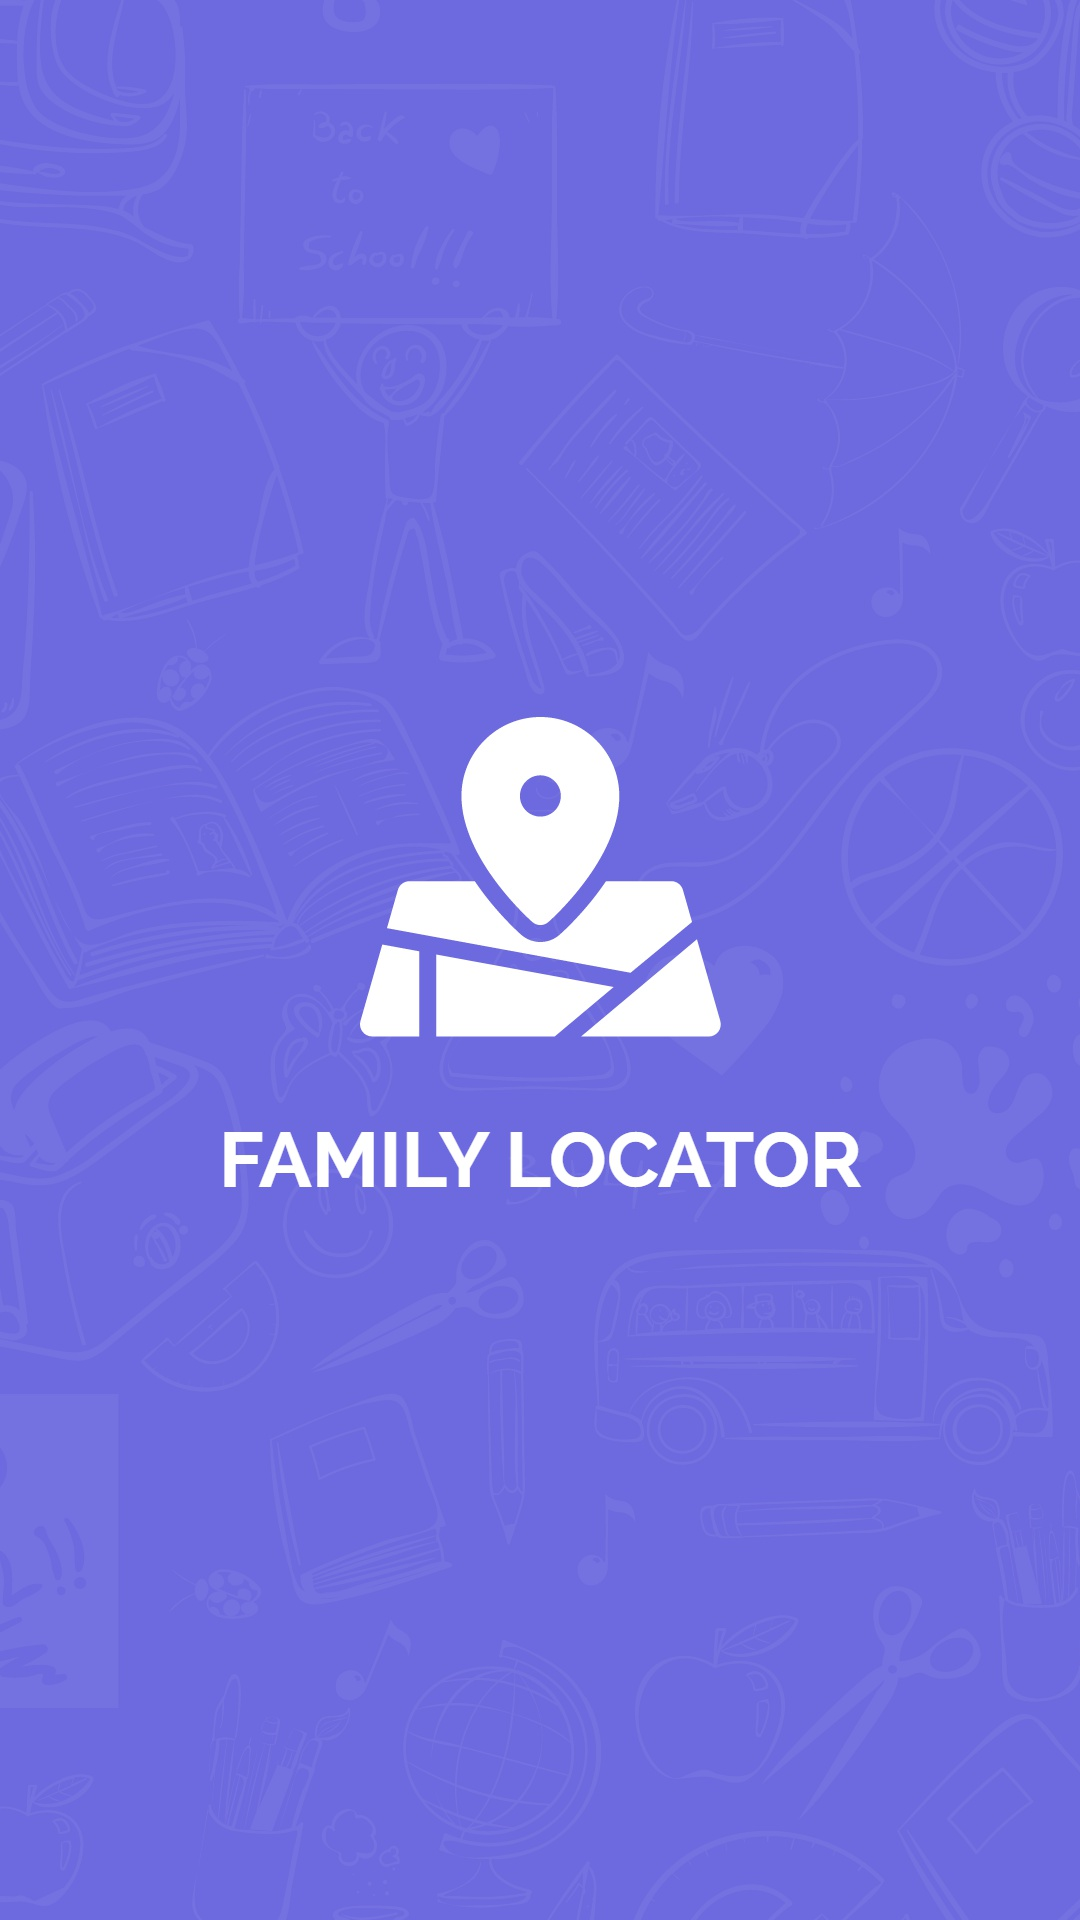BackgroundImage: (3, 1, 1080, 1920)
Image: (359, 717, 723, 1039)
Text: (222, 1131, 862, 1189)
